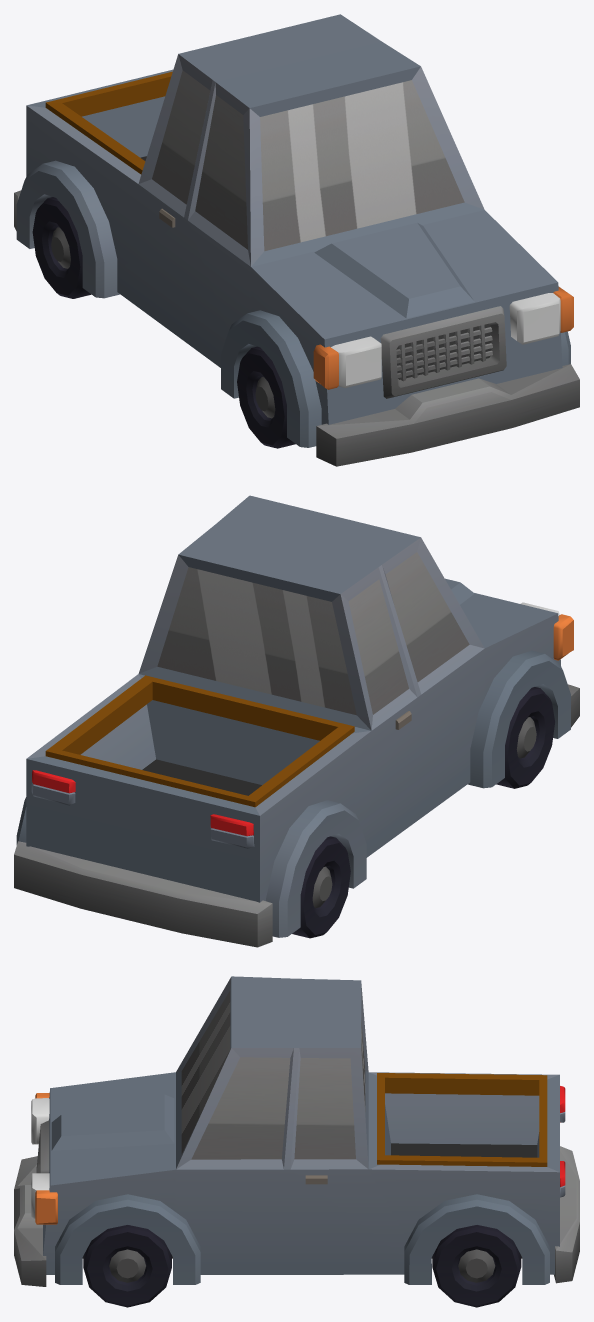
The model's file is PickUp_11.glb.
3 renders of one model, top to bottom at view 1: azimuth 30°, elevation 25°; view 2: azimuth 150°, elevation 25°; view 3: azimuth 270°, elevation 25°, orthographic. The views are drawn at different scales.
Parts seen in each view (by area): view 1: PickUp_11, BWhel_BR, BWhel_FR; view 2: PickUp_11, BWhel_BR, BWhel_FR; view 3: PickUp_11, BWhel_BL, BWhel_FL.
Part boxes in pixels (x1=…): PickUp_11: x1=14, y1=14, x2=579, y2=466; BWhel_BR: x1=32, y1=197, x2=91, y2=298; BWhel_FR: x1=237, y1=346, x2=295, y2=448; PickUp_11: x1=14, y1=495, x2=579, y2=947; BWhel_BR: x1=292, y1=836, x2=350, y2=938; BWhel_FR: x1=496, y1=687, x2=554, y2=788; PickUp_11: x1=14, y1=976, x2=579, y2=1286; BWhel_BL: x1=432, y1=1225, x2=521, y2=1307; BWhel_FL: x1=83, y1=1225, x2=171, y2=1307.
Bounding box in the file's own units: 1.09 × 1.08 × 2.3.
6 materials, 6 textured.
